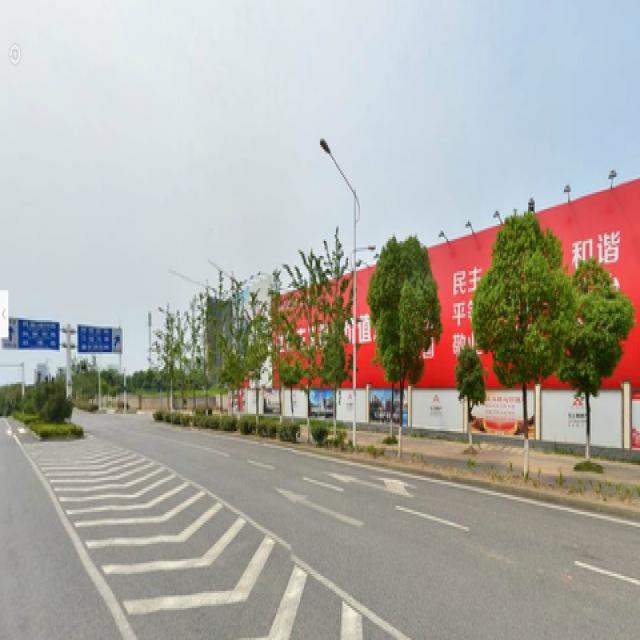cinn: (486, 218, 558, 484), (374, 241, 434, 442), (571, 252, 616, 461)
gink: (322, 237, 350, 437), (288, 256, 316, 435), (262, 273, 286, 420)
